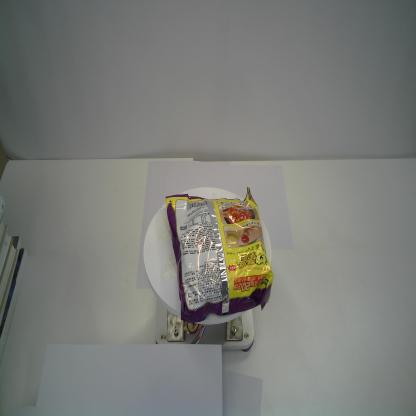Instant Noodles: (164, 185, 275, 324)
